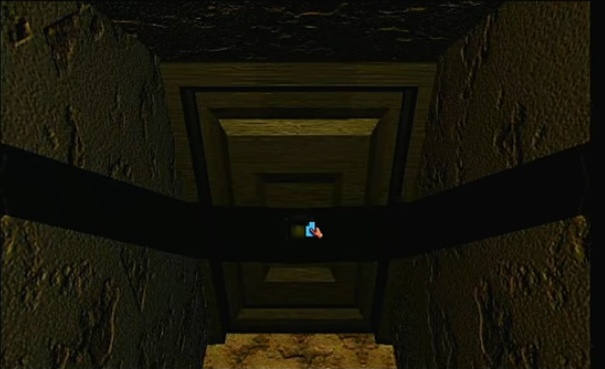Keep: (300, 217, 327, 243)
